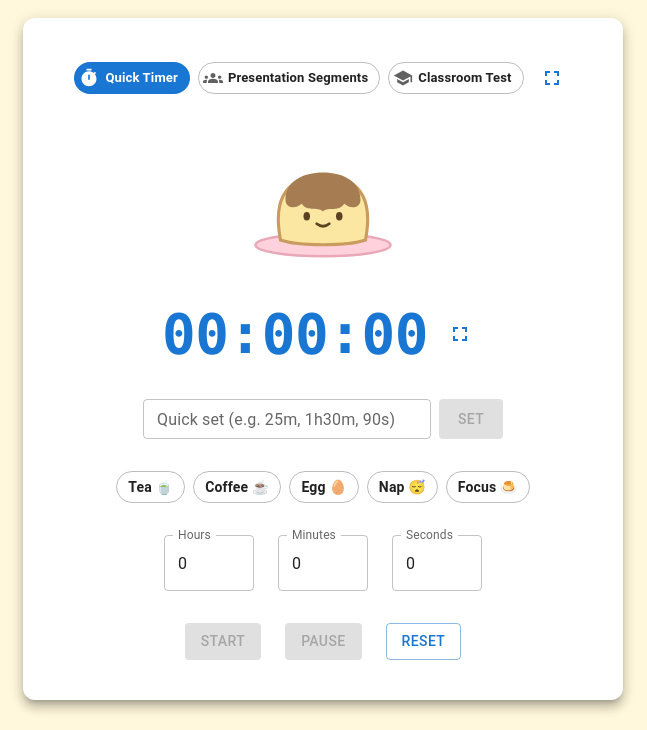
Test case: Timer › sanitizes cleared and out-of-range inputs
Clear the number field labelled "Seconds". click: (437, 563)
box: [392,535,482,591]
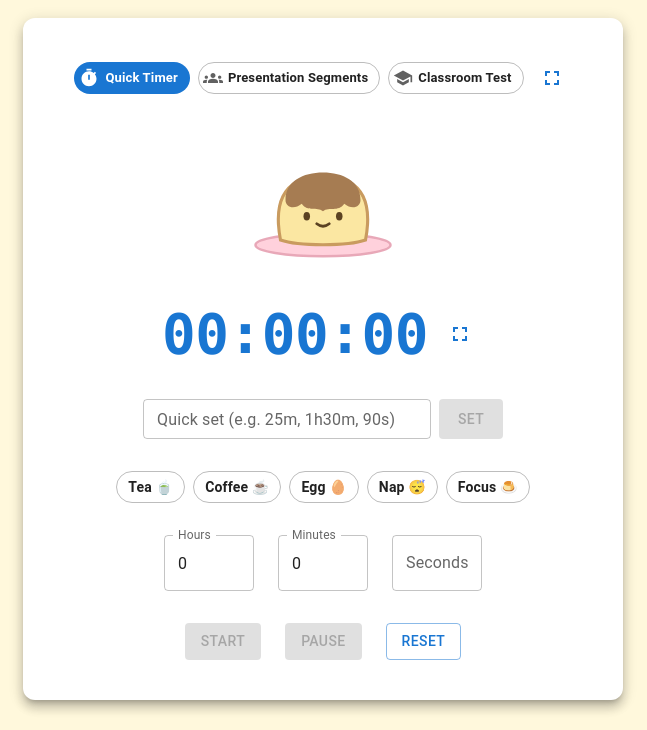
Leave the number field labelled "Seconds", box [392,535,482,591]
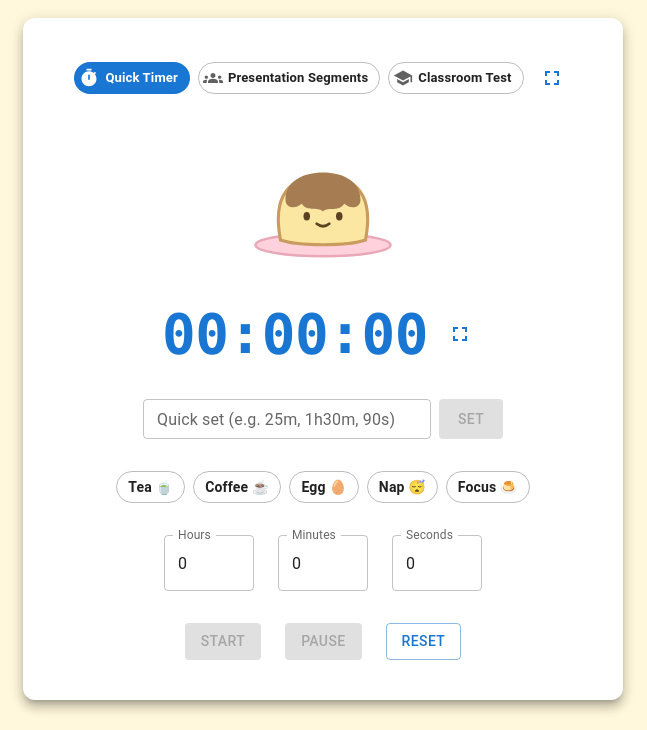
Result: the number field labelled "Seconds" holds "0" at [392,535,482,591]
Replace the text in the number field labelled "Minutes" with "75". click: (323, 563)
box: [278,535,368,591]
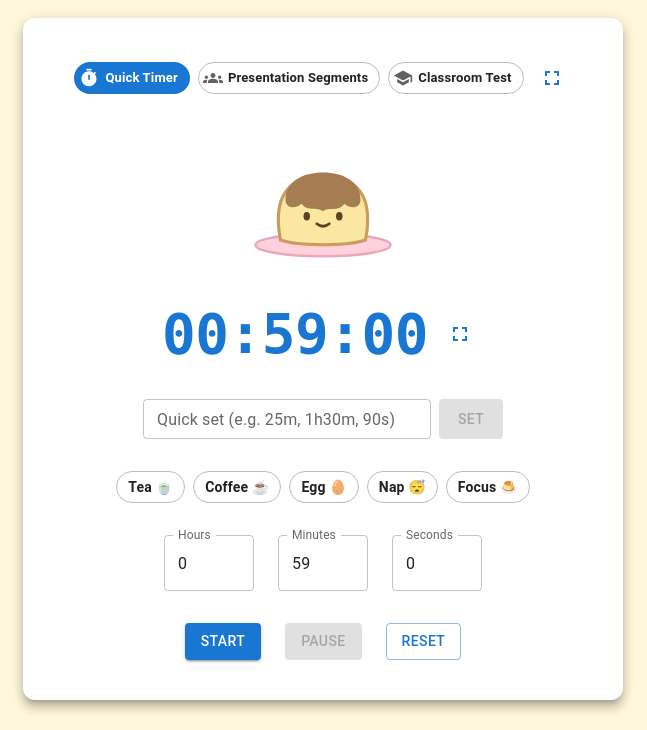
Result: the number field labelled "Minutes" holds "59"
Replace the text in the number field labelled "Minutes" with "-5". click: (323, 563)
box: [278,535,368,591]
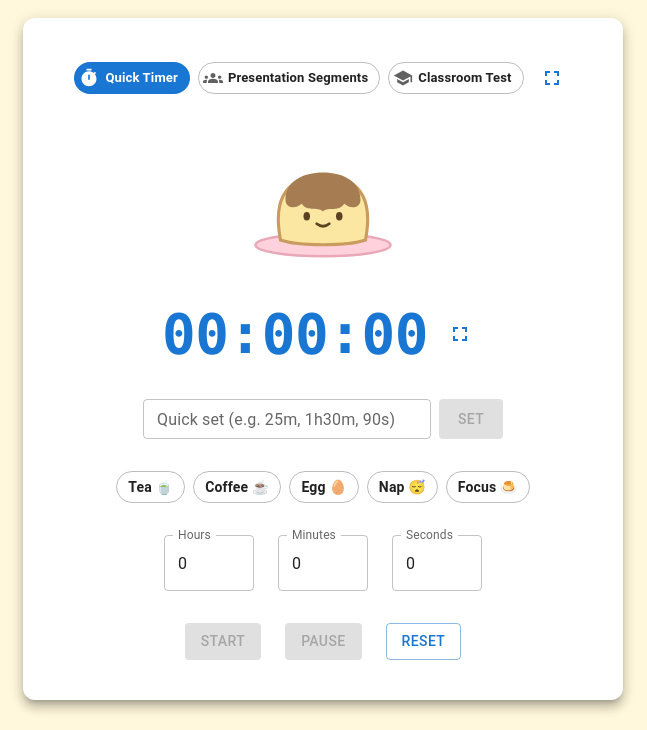
Result: the number field labelled "Minutes" holds "0" at [278,535,368,591]
